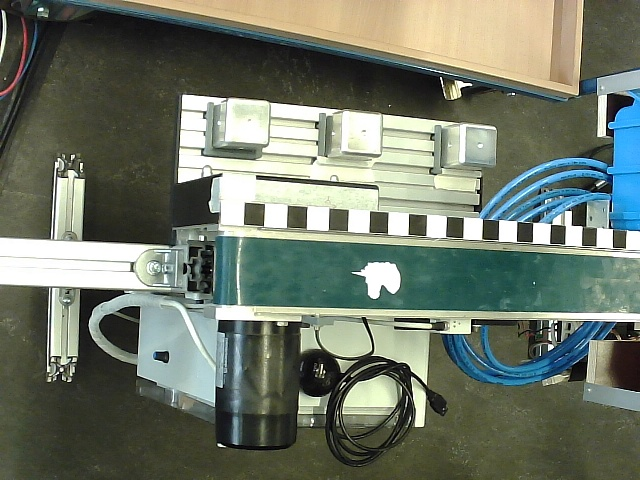unicorn: (350, 261, 402, 300)
